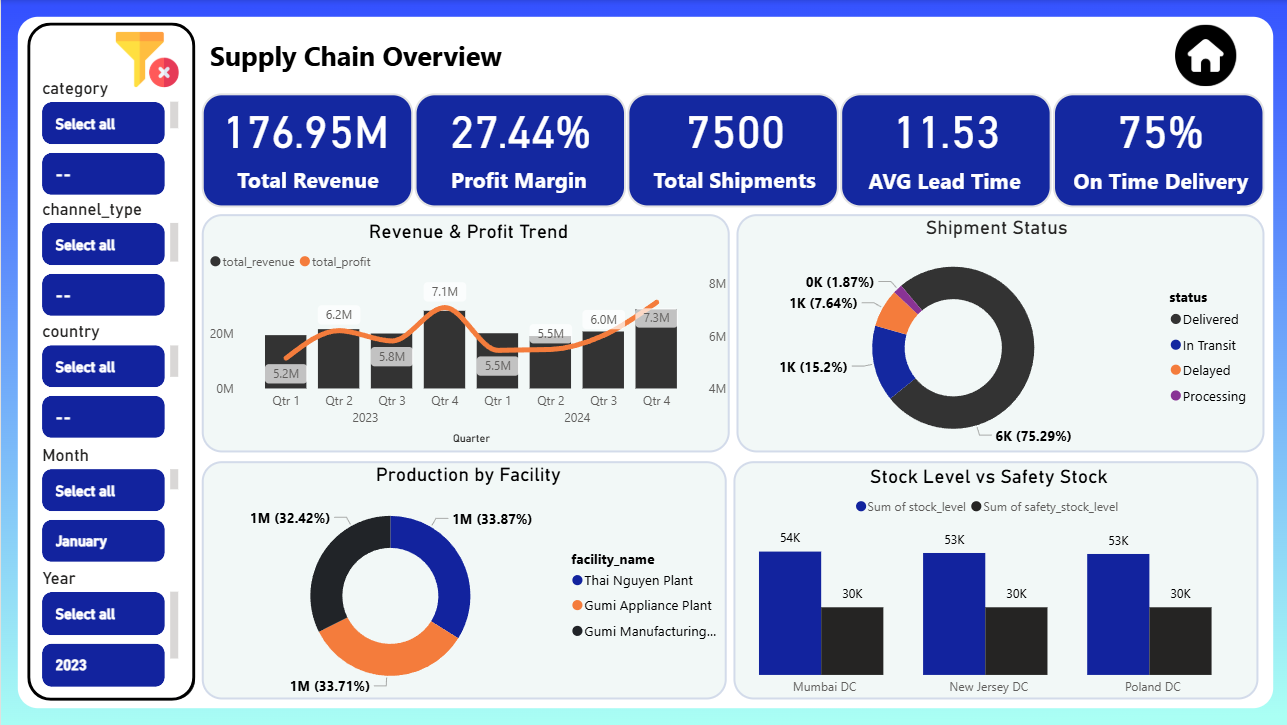

What the dashboard file says about the page in this screenshot:
{"tool":"powerbi","page":{"name":"Overview","canvas":[1280,720],"ordinal":1},"visuals":[{"type":"group","id":"g1","title":"Group 1","box":[202.3,76.7,1056.7,131.4],"z":0},{"type":"card","fields":{"Values":["fact_sales.total_revenue"]},"box":[202.3,76.7,200,100],"z":0,"group":"g1"},{"type":"actionButton","box":[37.2,208.1,144.2,58.1],"z":0,"group":"g2"},{"type":"actionButton","box":[37.2,290.7,143,57],"z":0,"group":"g5"},{"type":"actionButton","box":[37.6,372.9,144,57],"z":0,"group":"g3"},{"type":"actionButton","box":[37.2,455.2,144.2,57.1],"z":0,"group":"g6"},{"type":"actionButton","box":[37.2,537.5,144.2,57.1],"z":0,"group":"g4"},{"type":"actionButton","box":[37.2,619.8,144.2,57.1],"z":0,"group":"g7"},{"type":"card","fields":{"Values":["fact_shipment.on_time_delivery_pct"]},"box":[1051.1,76.7,200,100],"z":1000,"group":"g1"},{"type":"donutChart","title":"Production by Facility","fields":{"Y":["fact_production.total_quantity_produce"],"Category":["dim_facility.facility_name"]},"box":[202.4,460.5,524,241.3],"z":1000},{"type":"card","fields":{"Values":["fact_shipment.total_shipments"]},"box":[629,76.7,200,100],"z":2000,"group":"g1"},{"type":"donutChart","title":"Shipment Status","fields":{"Y":["fact_shipment.total_shipments"],"Category":["fact_shipment.status"]},"box":[726.4,215.3,525.3,240],"z":2000},{"type":"card","fields":{"Values":["fact_sales.profit_margin"]},"box":[416.3,76.7,200,100],"z":3000,"group":"g1"},{"type":"clusteredColumnChart","title":"Stock Level vs Safety Stock","fields":{"Y":["Sum(fact_inventory.stock_level)","Sum(fact_inventory.safety_stock_level)"],"Category":["dim_facility.facility_name"]},"box":[683.3,461.8,596.7,238.7],"z":3000},{"type":"card","fields":{"Values":["fact_procurement.avg_lead_time"]},"box":[839.5,76.7,200,100],"z":4000,"group":"g1"},{"type":"lineStackedColumnComboChart","title":"Revenue & Profit Trend","fields":{"Category":["dim_date.date.Variation.Date Hierarchy.Year","dim_date.date.Variation.Date Hierarchy.Quarter"],"Y":["fact_sales.total_revenue"],"Y2":["fact_sales.total_profit"]},"box":[202.4,217.9,524,228.3],"z":4000},{"type":"textbox","box":[202.1,32.4,336.1,46.9],"z":5000},{"type":"textbox","box":[230.2,158.1,170.9,50],"z":5000,"group":"g1"},{"type":"textbox","box":[441.8,158.1,170.9,50],"z":6000,"group":"g1"},{"type":"group","id":"g2","title":"overview_button","box":[37.2,208.1,144.2,58.1],"z":6000},{"type":"textbox","box":[643,158.1,183.7,50],"z":7000,"group":"g1"},{"type":"group","id":"g3","title":"overview_button","box":[37.6,372.9,144,57],"z":7000},{"type":"textbox","box":[856.9,160,190.7,48],"z":8000,"group":"g1"},{"type":"group","id":"g4","title":"overview_button","box":[37.2,537.5,144.2,57],"z":8000},{"type":"textbox","box":[1060.6,160,198.5,48],"z":9000,"group":"g1"},{"type":"group","id":"g5","title":"overview_button","box":[37.2,290.7,143,57],"z":9000},{"type":"group","id":"g6","title":"overview_button","box":[37.2,455.2,144.2,57],"z":10000},{"type":"group","id":"g7","title":"overview_button","box":[37.2,619.8,144.2,57],"z":11000},{"type":"image","box":[56.4,104.5,106.9,72],"z":12000},{"type":"image","box":[1150.1,20.1,90.4,70.3],"z":14000}]}

Visuals, with their boxes in screenshot pixels (x1, y1, x2, y2), scaled from the page's 1280x720 canvas onto the 1287x725 screenshot:
"Group 1" group: bbox(203, 77, 1266, 210)
card - fact_sales.total_revenue: bbox(203, 77, 405, 178)
actionButton: bbox(37, 210, 182, 268)
actionButton: bbox(37, 293, 181, 350)
actionButton: bbox(38, 375, 183, 433)
actionButton: bbox(37, 458, 182, 516)
actionButton: bbox(37, 541, 182, 599)
actionButton: bbox(37, 624, 182, 682)
card - fact_shipment.on_time_delivery_pct: bbox(1057, 77, 1258, 178)
"Production by Facility" donutChart: bbox(204, 464, 730, 707)
card - fact_shipment.total_shipments: bbox(632, 77, 834, 178)
"Shipment Status" donutChart: bbox(730, 217, 1259, 458)
card - fact_sales.profit_margin: bbox(419, 77, 620, 178)
"Stock Level vs Safety Stock" clusteredColumnChart: bbox(687, 465, 1286, 705)
card - fact_procurement.avg_lead_time: bbox(844, 77, 1045, 178)
"Revenue & Profit Trend" lineStackedColumnComboChart: bbox(204, 219, 730, 449)
textbox: bbox(203, 33, 541, 80)
textbox: bbox(231, 159, 403, 210)
textbox: bbox(444, 159, 616, 210)
"overview_button" group: bbox(37, 210, 182, 268)
textbox: bbox(647, 159, 831, 210)
"overview_button" group: bbox(38, 375, 183, 433)
textbox: bbox(862, 161, 1053, 209)
"overview_button" group: bbox(37, 541, 182, 599)
textbox: bbox(1066, 161, 1266, 209)
"overview_button" group: bbox(37, 293, 181, 350)
"overview_button" group: bbox(37, 458, 182, 516)
"overview_button" group: bbox(37, 624, 182, 681)
image: bbox(57, 105, 164, 178)
image: bbox(1156, 20, 1247, 91)
